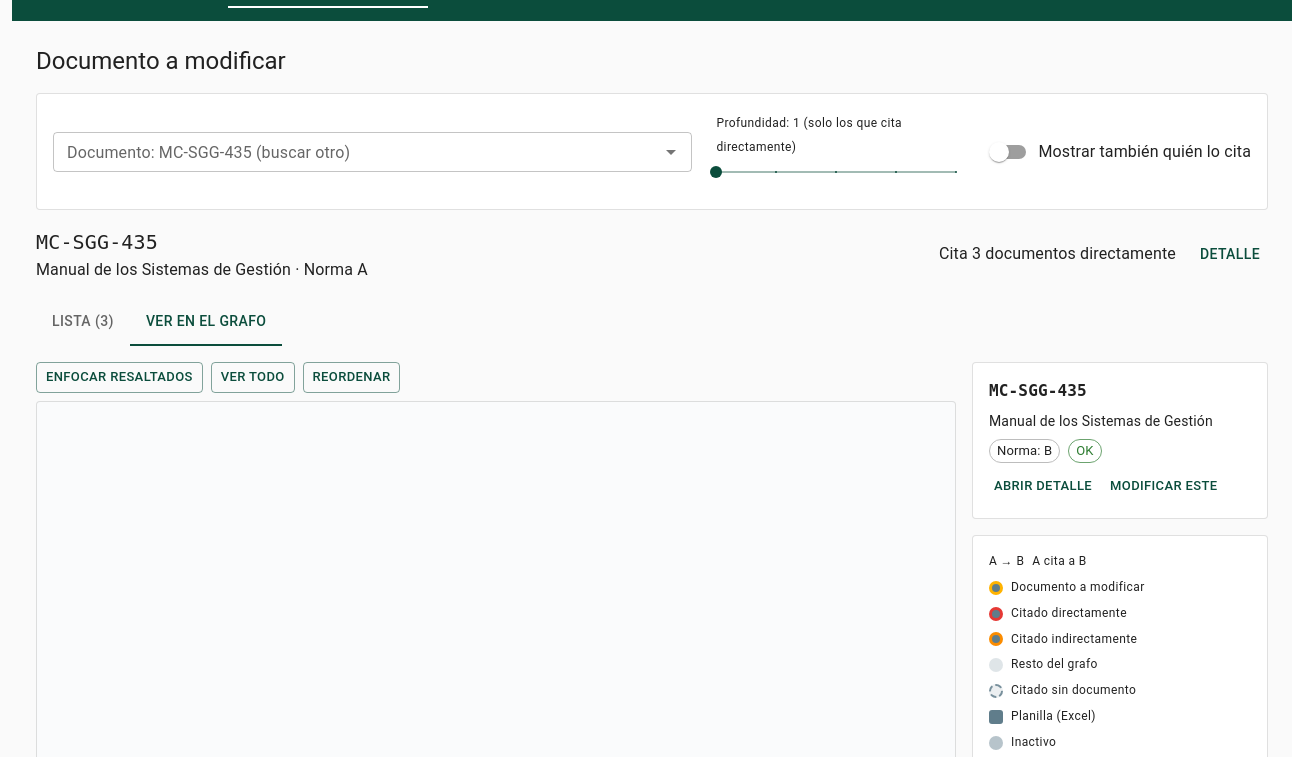
Test: ModifyPage › permite seleccionar otro documento del grafo para modificar
expect the text "Norma: B" is shown: met, box [997,443,1052,458]
Click the button "Modificar este": coordinates (1164, 486) [1105,471,1222,502]
(page scrolled)
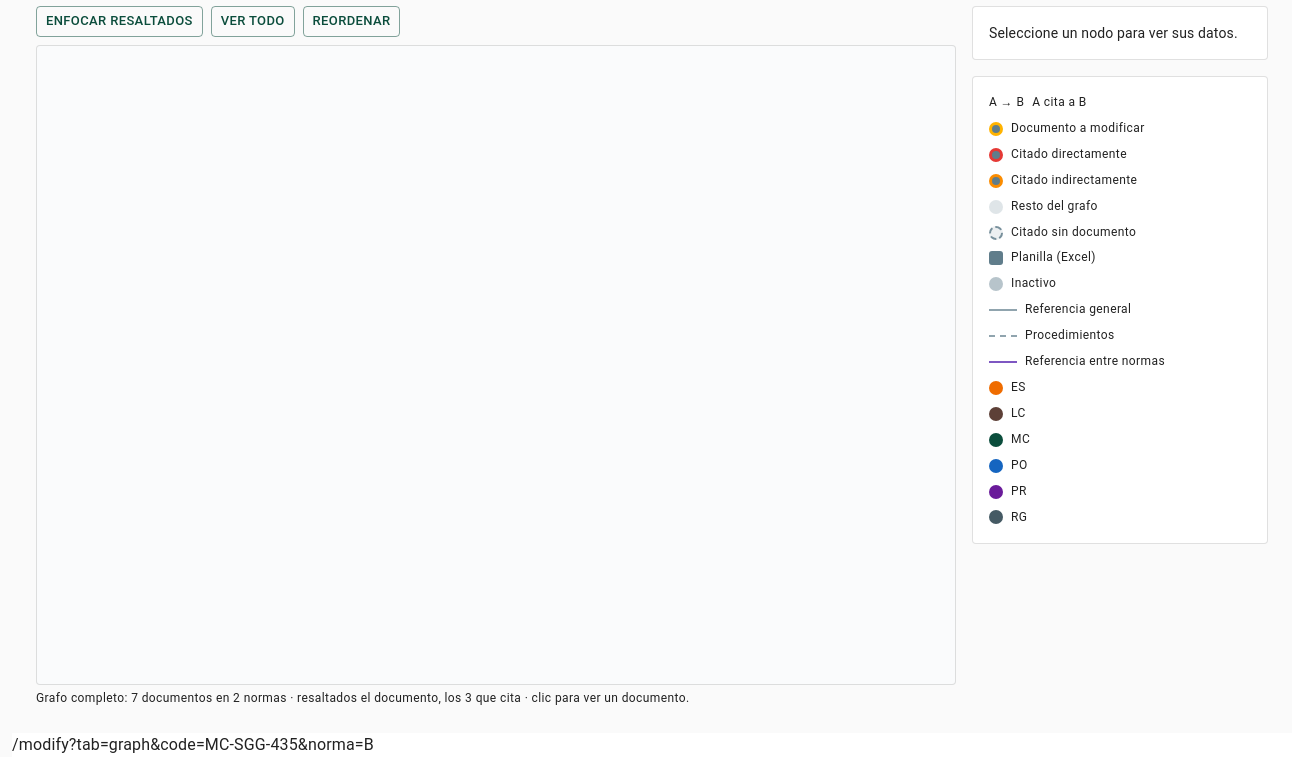
expect the text with test id "location" shows "code=MC-SGG-435&norma=B": met, box [12,735,374,754]
